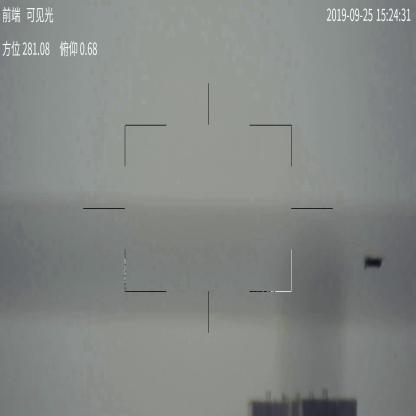uav: (363, 254, 383, 271)
